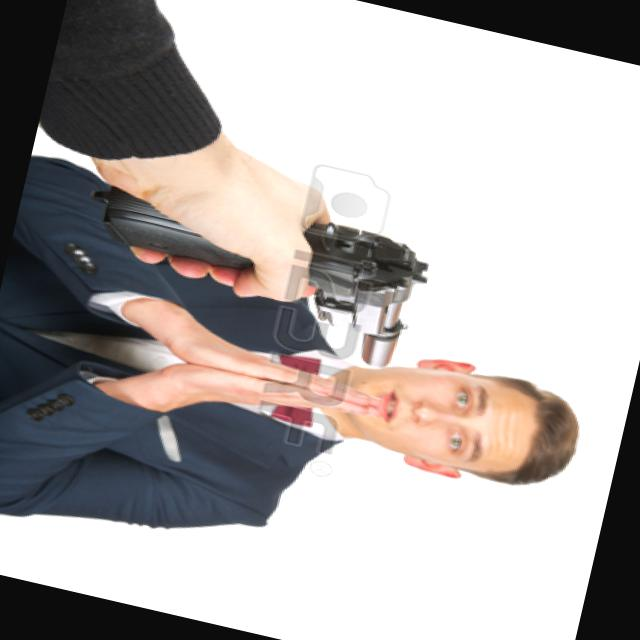handgun: (96, 164, 438, 374)
